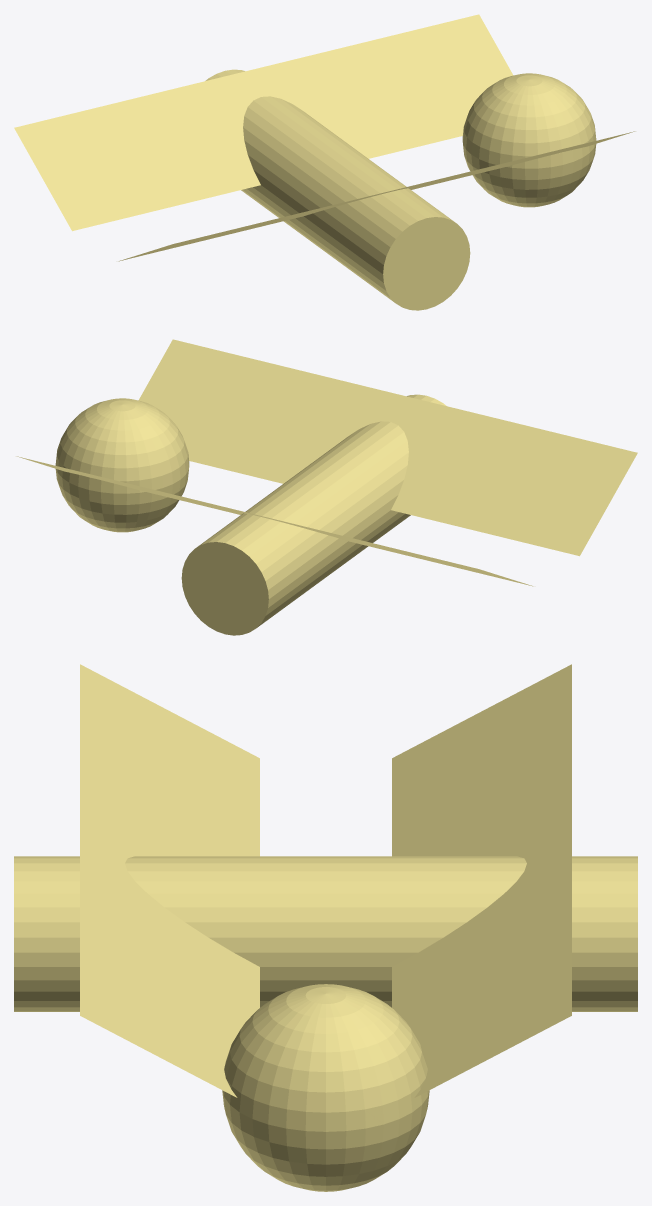
File: thrip.glb
The picture shows the model from 3 angles, top to bottom: view 1: azimuth 30°, elevation 25°; view 2: azimuth 150°, elevation 25°; view 3: azimuth 270°, elevation 25°; orthographic projection. The views are drawn at different scales.
Visible parts, largest first — view 1: Plane.001, Cylinder, Sphere, Plane; view 2: Plane, Cylinder, Sphere, Plane.001; view 3: Cylinder, Plane, Plane.001, Sphere.
Boxes of the visible parts, left/top/right/bottom form: Plane.001: left=14, top=14, right=513, bottom=231; Cylinder: left=205, top=69, right=470, bottom=310; Sphere: left=462, top=73, right=596, bottom=207; Plane: left=118, top=131, right=635, bottom=261; Plane: left=138, top=339, right=637, bottom=556; Cylinder: left=181, top=394, right=446, bottom=635; Sphere: left=55, top=398, right=189, bottom=532; Plane.001: left=16, top=456, right=533, bottom=586; Cylinder: left=14, top=856, right=637, bottom=1011; Plane: left=80, top=664, right=259, bottom=1097; Plane.001: left=392, top=664, right=571, bottom=1097; Sphere: left=222, top=984, right=429, bottom=1191.
Bounding box in the file's own units: 0.17 × 0.04 × 0.12.
